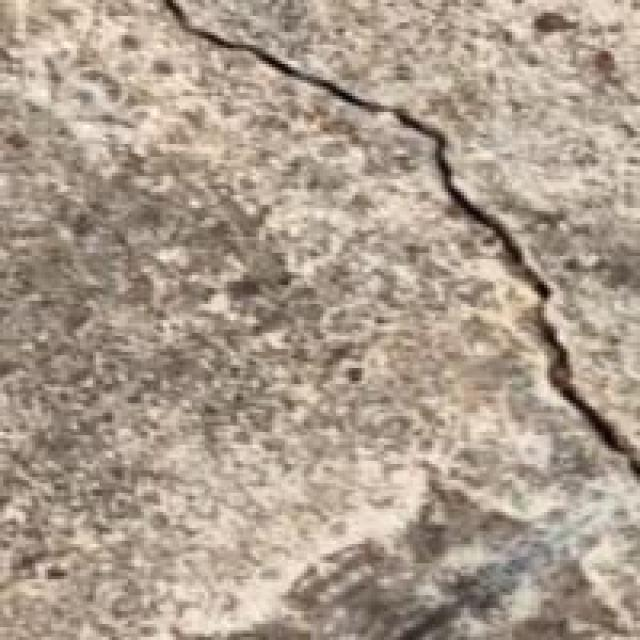crack: (142, 0, 640, 474)
